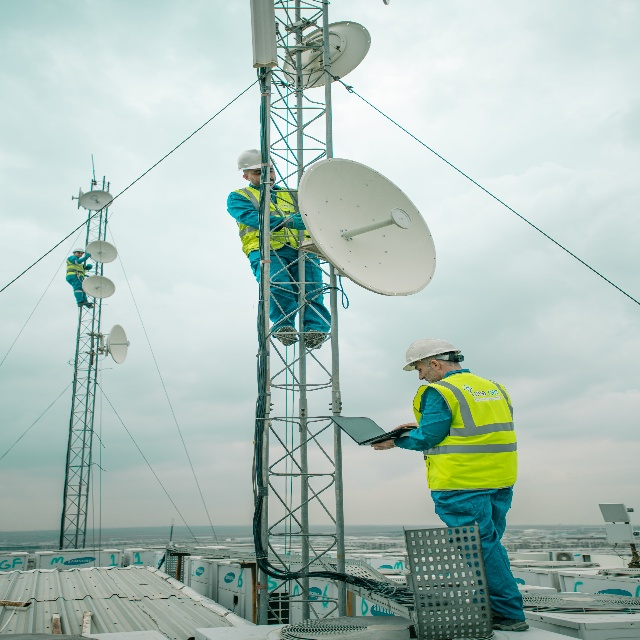Guantes: (280, 213, 307, 231)
Sin_guantes: (370, 437, 395, 450), (391, 422, 419, 431)
